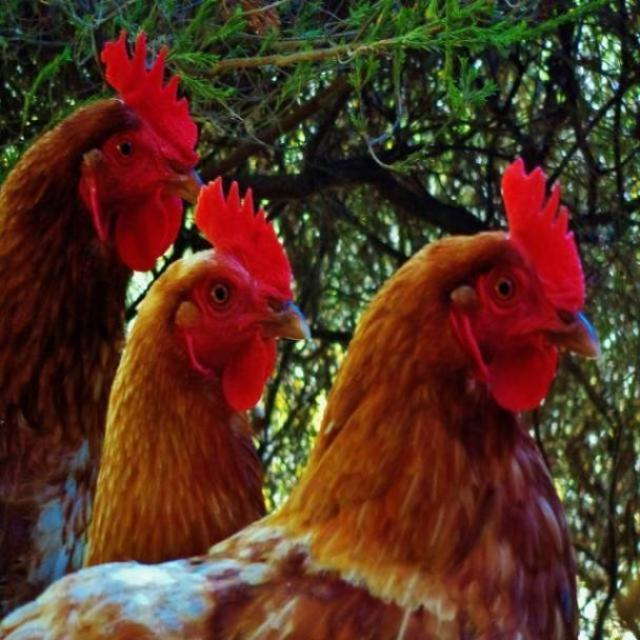Chicken: (0, 149, 595, 640), (0, 29, 203, 624), (83, 175, 310, 566)
